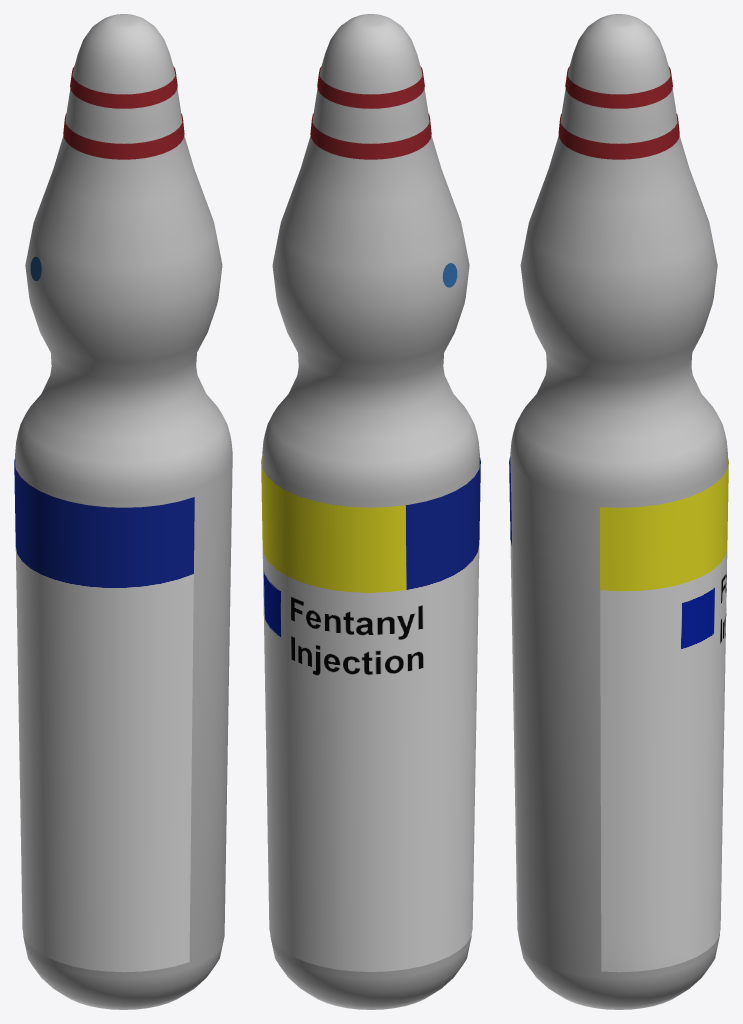
The model's file is Fentanyl.FBX.
The picture shows the model from 3 angles, left to right: view 1: azimuth 30°, elevation 25°; view 2: azimuth 150°, elevation 25°; view 3: azimuth 270°, elevation 25°; orthographic projection.
Visible parts, largest first — view 1: BotolF, Sticker; view 2: Sticker, BotolF; view 3: BotolF, Sticker.
Boxes of the visible parts, x1,y1,x2,y2 form: BotolF: (15, 14, 232, 1009); Sticker: (14, 66, 194, 972); Sticker: (261, 66, 480, 971); BotolF: (262, 14, 479, 1009); BotolF: (510, 14, 727, 1009); Sticker: (509, 66, 728, 972).
Bounding box in the file's own units: 3.27 × 15.75 × 3.27.
2 materials, 1 textured.
